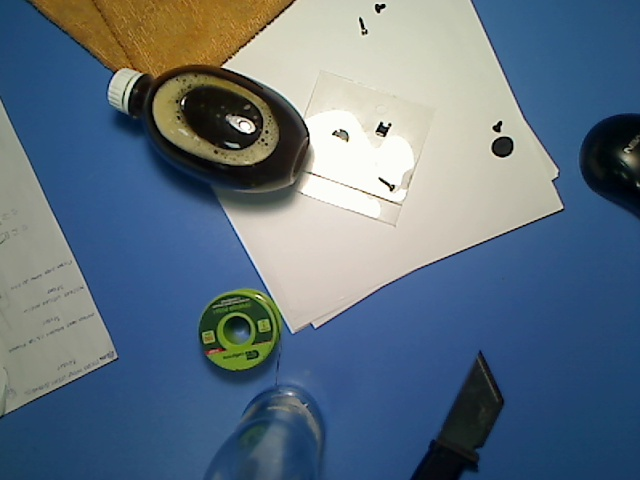plast_bottle: (103, 57, 316, 201)
